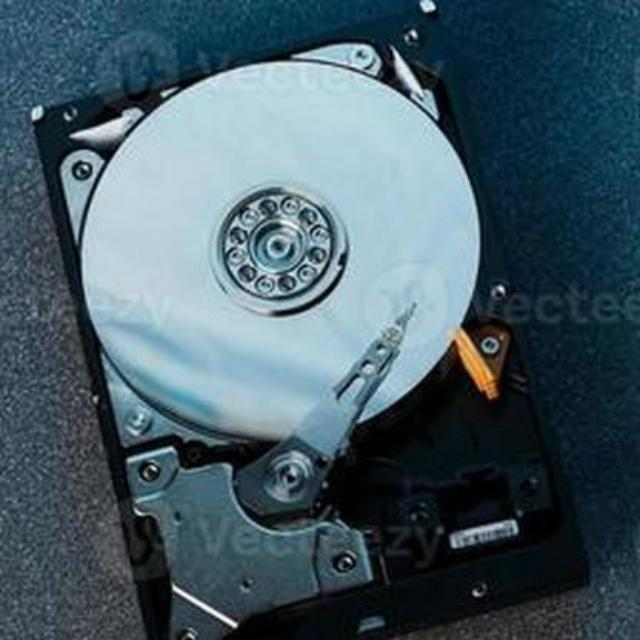DISK: (5, 0, 610, 640)
